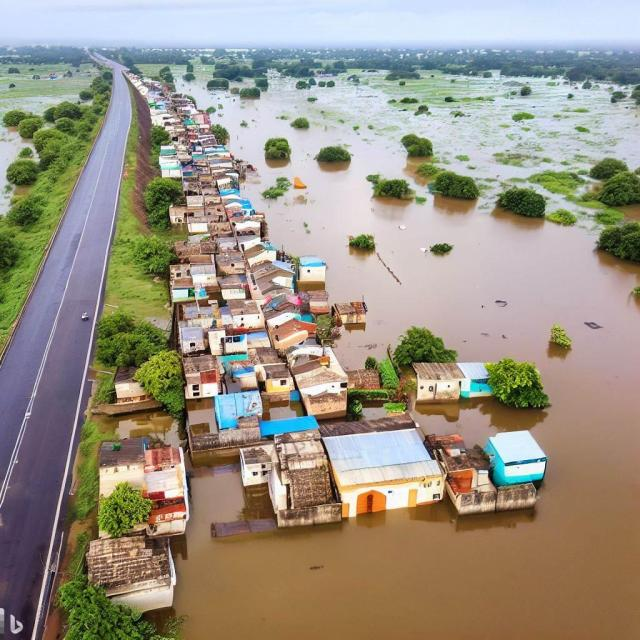flood: (173, 71, 640, 640), (0, 122, 31, 213), (1, 94, 77, 117)
house: (309, 427, 449, 509), (84, 536, 179, 614), (272, 432, 342, 528), (141, 455, 189, 539), (486, 428, 546, 492), (294, 366, 348, 420), (411, 360, 464, 406), (212, 389, 264, 427), (260, 407, 318, 440), (238, 444, 280, 488), (112, 363, 152, 403), (270, 316, 312, 352), (452, 362, 493, 398), (258, 364, 294, 402), (254, 262, 295, 292), (295, 257, 330, 291), (228, 299, 264, 331), (186, 367, 217, 402), (332, 300, 369, 326), (179, 327, 206, 356), (218, 251, 244, 278), (170, 205, 206, 224), (244, 242, 278, 262), (169, 264, 194, 290), (159, 157, 181, 178)
